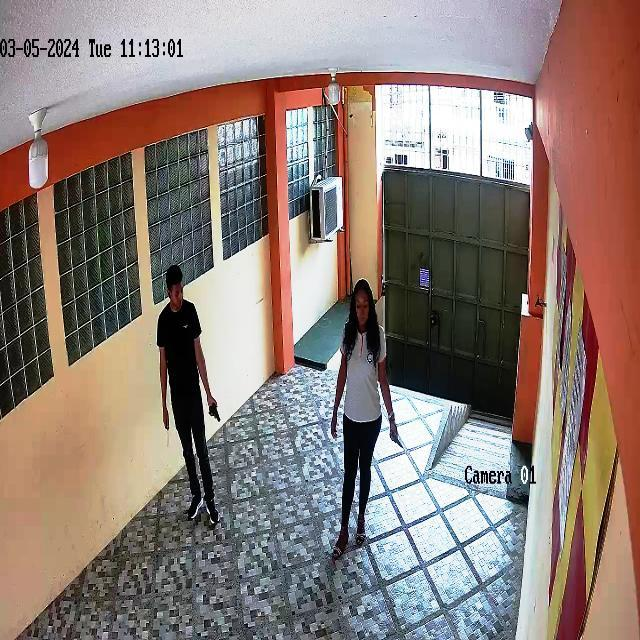Gun: (202, 391, 234, 430)
Knife: (390, 426, 416, 462)
